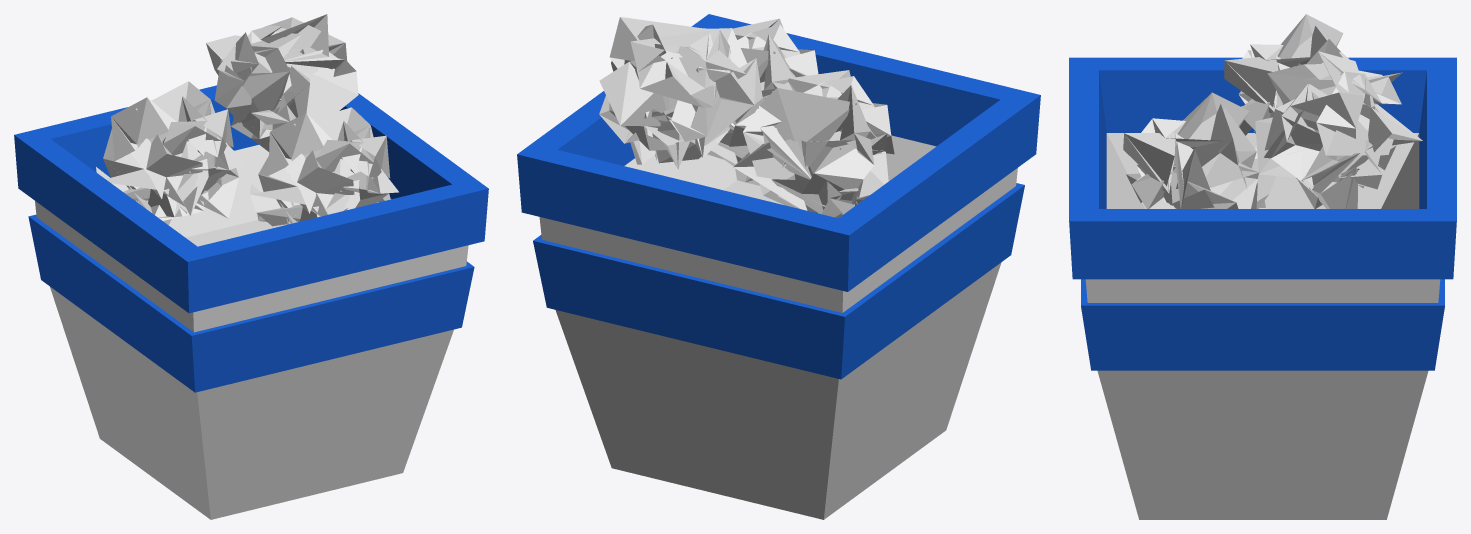
The model's file is PaperBin.fbx.
3 views of the same model, side by side, from view 1: azimuth 30°, elevation 25°; view 2: azimuth 150°, elevation 25°; view 3: azimuth 270°, elevation 25° (orthographic). The views are drawn at different scales.
Parts seen in each view (by area): view 1: Bin, PaperThrash3, PaperThrash2, PaperThrash1; view 2: Bin, PaperThrash2, PaperThrash3, PaperThrash1; view 3: Bin, PaperThrash2, PaperThrash1, PaperThrash3.
Boxes of the visible parts, <box> form: Bin: <box>14,85,488,519</box>; PaperThrash3: <box>96,81,245,224</box>; PaperThrash2: <box>206,14,358,151</box>; PaperThrash1: <box>249,107,398,226</box>; Bin: <box>517,14,1040,519</box>; PaperThrash2: <box>599,17,762,169</box>; PaperThrash3: <box>733,70,894,218</box>; PaperThrash1: <box>707,18,818,182</box>; Bin: <box>1069,57,1456,519</box>; PaperThrash2: <box>1255,39,1422,208</box>; PaperThrash1: <box>1123,92,1276,208</box>; PaperThrash3: <box>1224,14,1382,178</box>.
Bounding box in the file's own units: 107 × 135 × 107.
